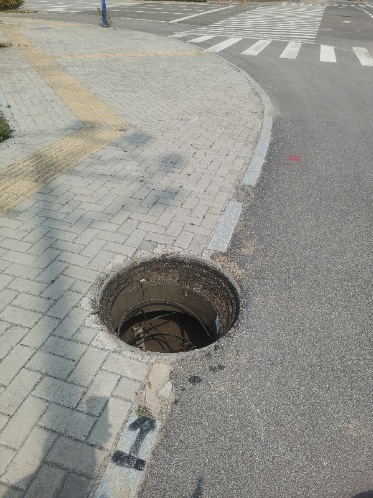lose: (94, 253, 245, 356)
